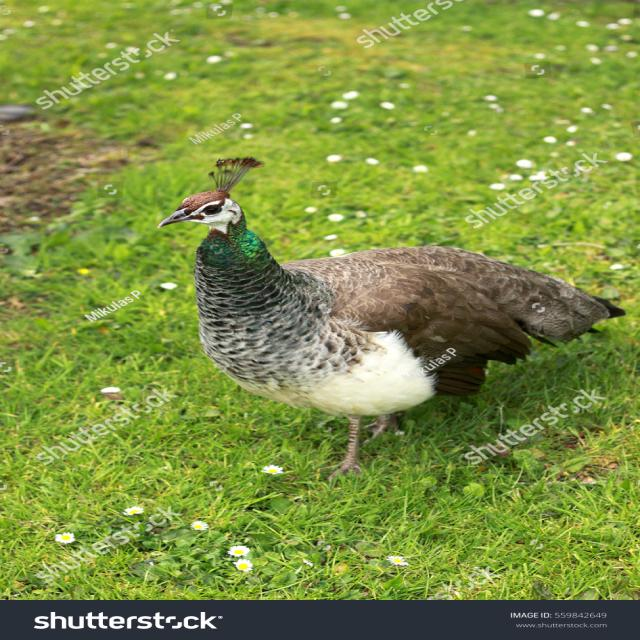peacock: (153, 157, 602, 480)
